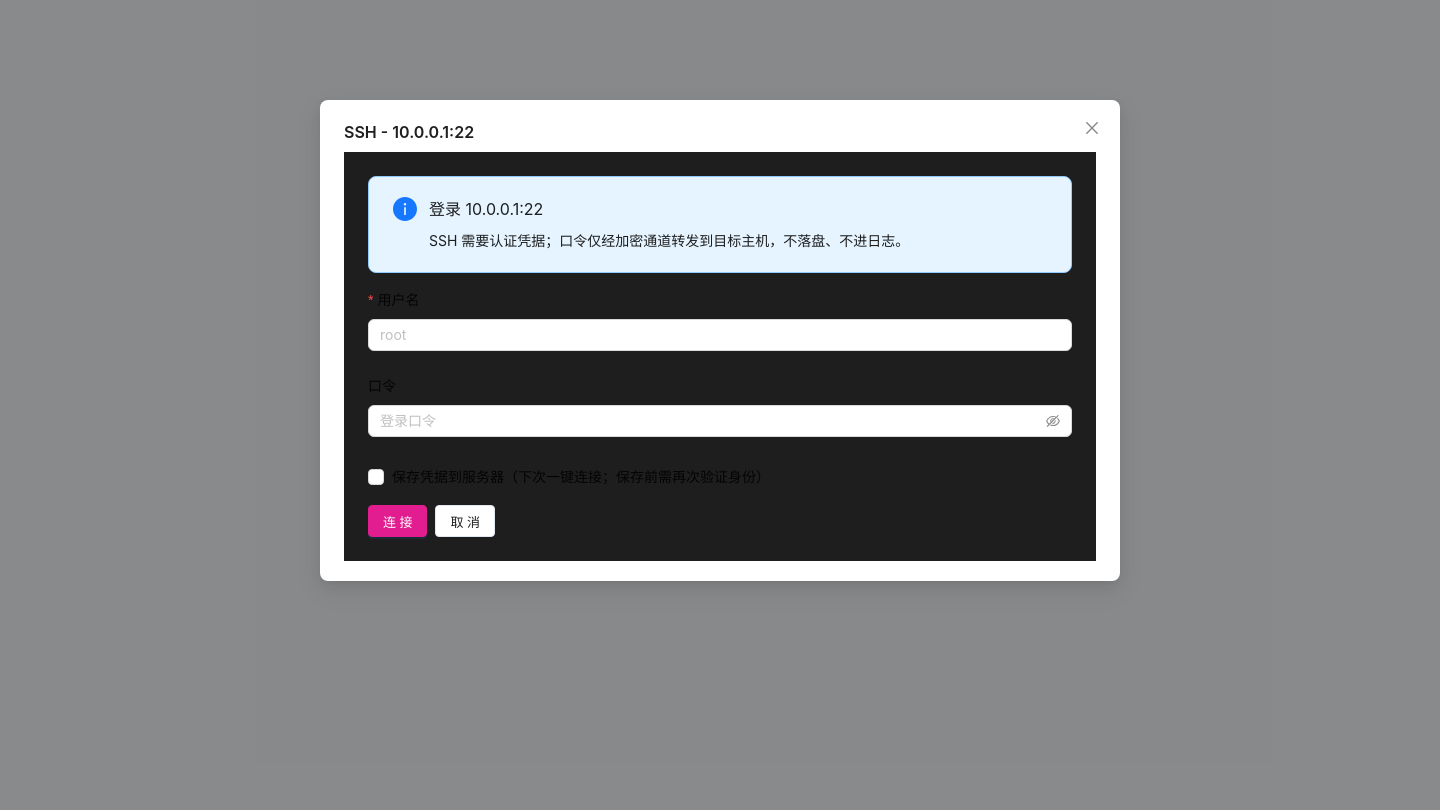
Test: TerminalModal › 凭据表单空用户名拦截，不建终端
Click the button "连 接" at (398, 521), box x1=368 y1=505 x2=428 y2=537
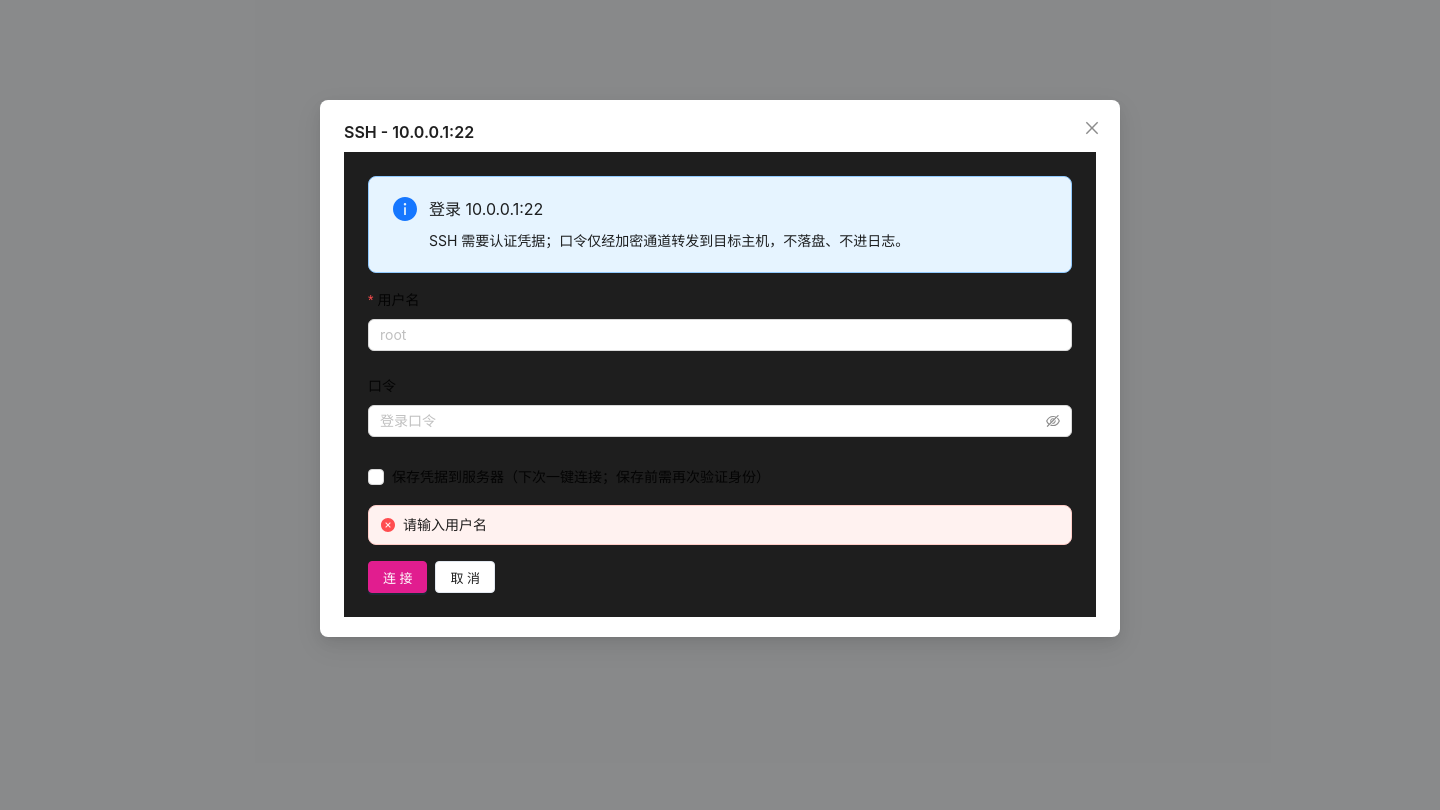
Expected: the text "请输入用户名" is shown, x1=403 y1=516 x2=487 y2=533
